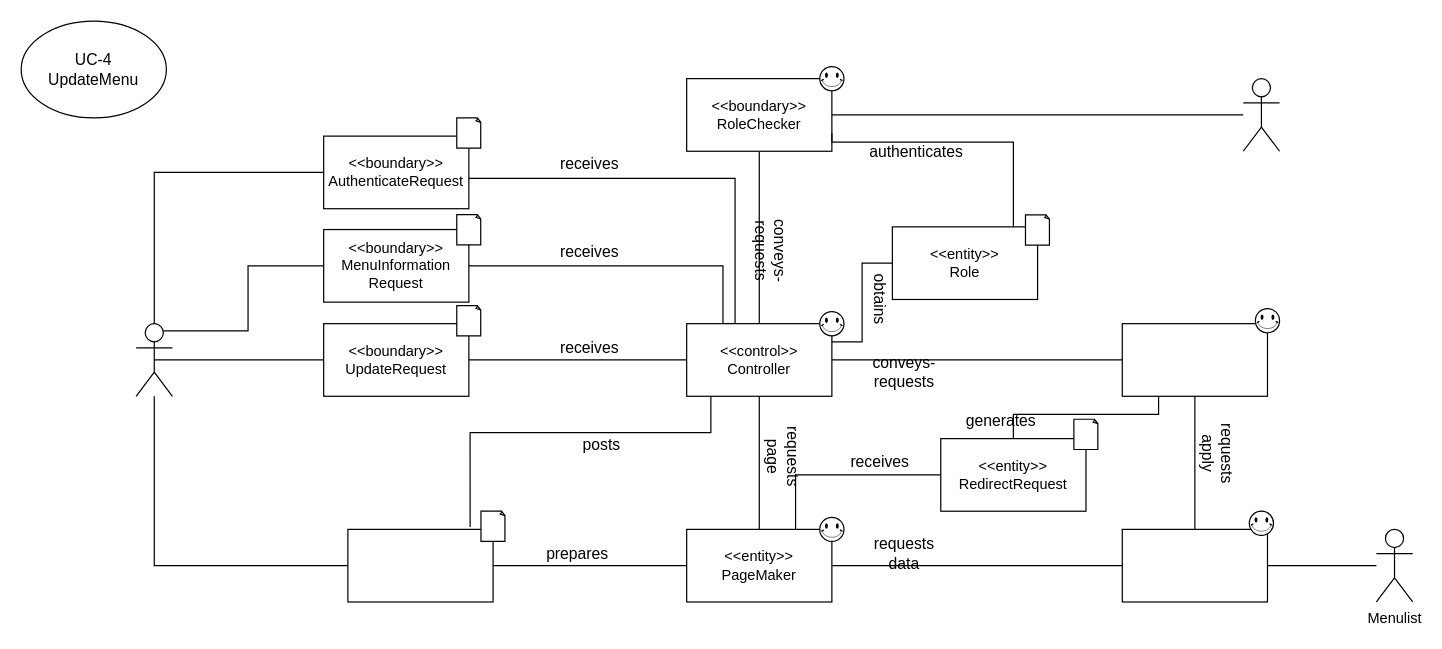
The diagram is 1442 pixels wide and 649 high, and some of its shapes have lost their labels. The shapes that lost their labels are listed below. From the top down, each one's centre as x and y in pixels, then its label:
pixel 1261 114: Authenticator
pixel 153 359: Manager
pixel 1194 359: <<boundary>> UpdateMenuOperator
pixel 420 565: <<boundary>> InterfacePage
pixel 1194 565: <<boundary>> MenuConnection
